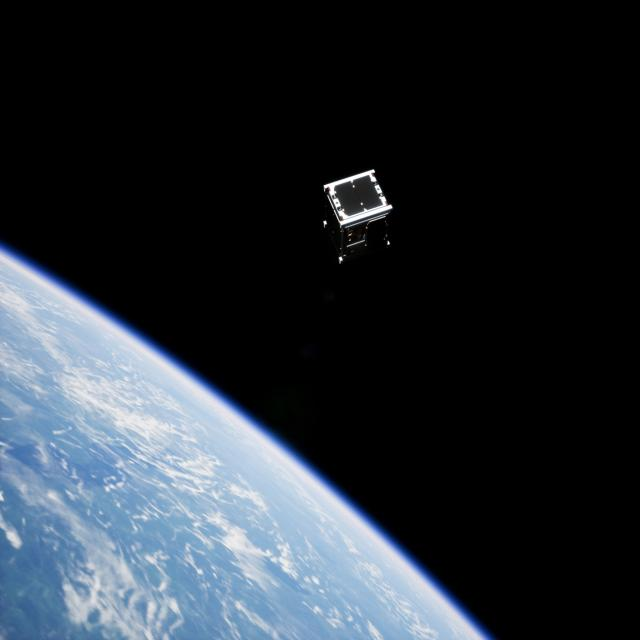medium_debris: (318, 169, 396, 264)
